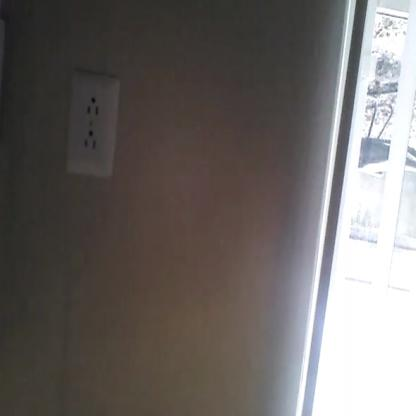OUTLET: (65, 77, 120, 175)
